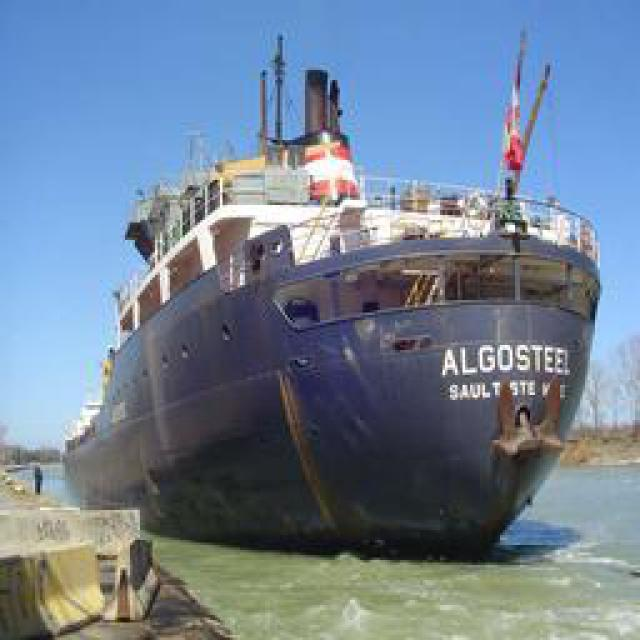Ship: (65, 35, 603, 563)
